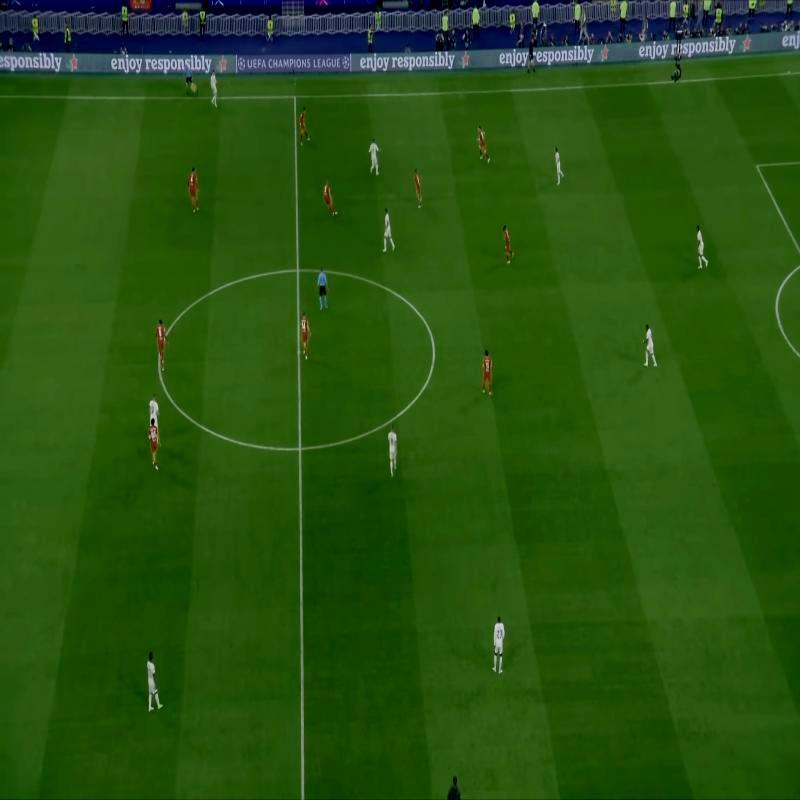13: (289, 88, 301, 108)
14: (290, 262, 306, 278)
15: (292, 440, 308, 458)
9: (749, 160, 764, 175)
c: (152, 348, 166, 377), (426, 342, 442, 358)
